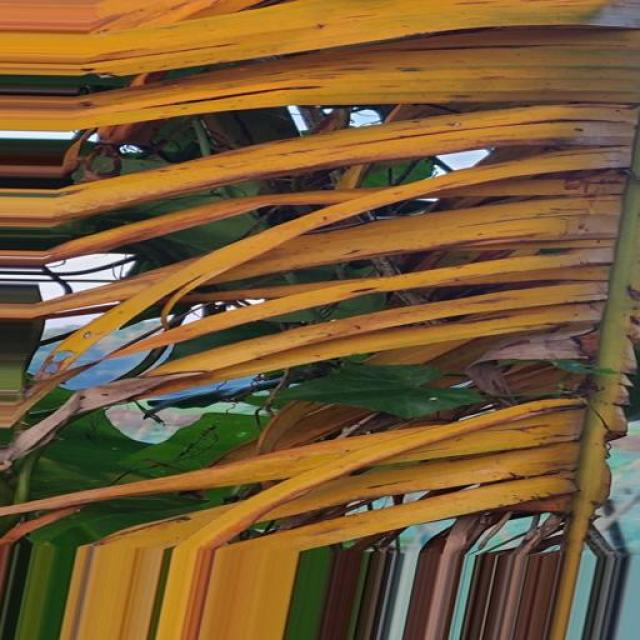Cordana: (0, 0, 639, 569)
